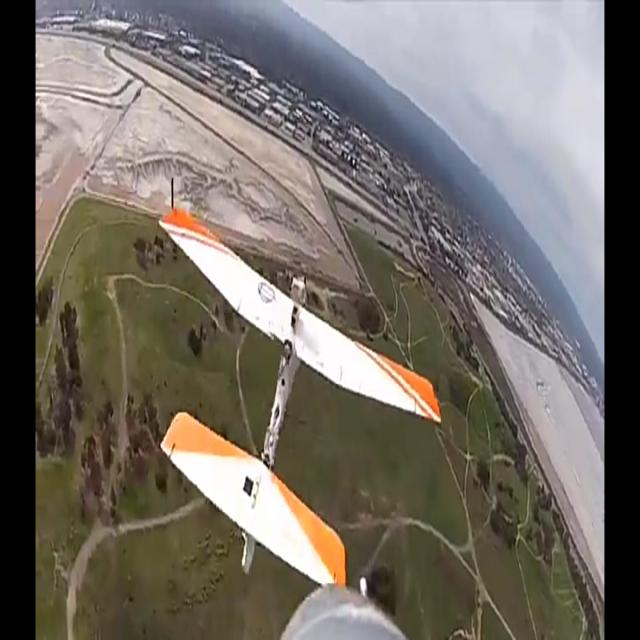iha: (158, 204, 442, 593)
